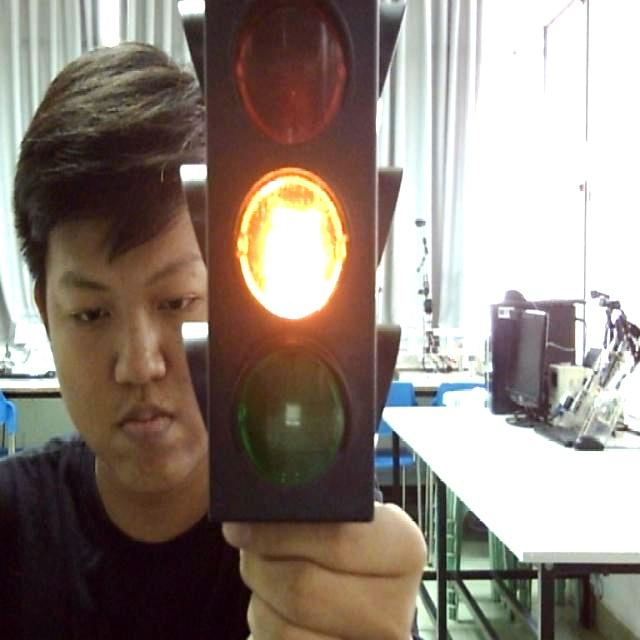Yellow: (197, 0, 379, 532)
